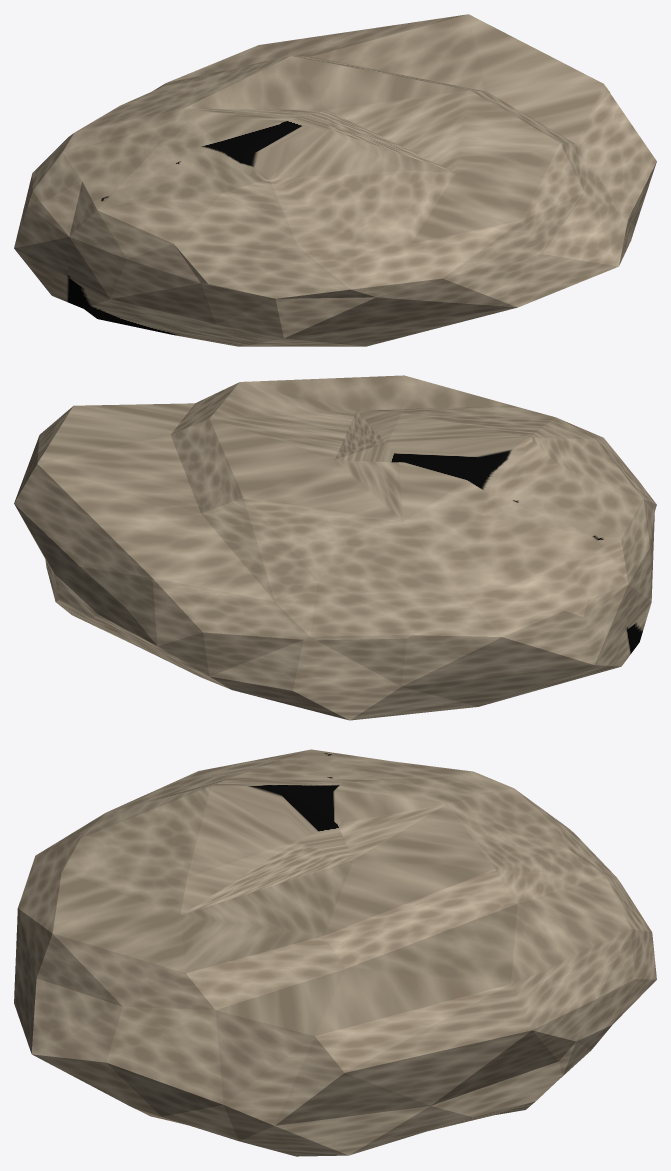
Rendered from 해안바위_01.fbx.
3 renders of one model, top to bottom at view 1: azimuth 30°, elevation 25°; view 2: azimuth 150°, elevation 25°; view 3: azimuth 270°, elevation 25°, orthographic. The views are drawn at different scales.
Parts seen in each view (by area): view 1: 해안바위_01; view 2: 해안바위_01; view 3: 해안바위_01.
Part boxes in pixels (<box>): 해안바위_01: <box>14,14,656,346</box>; 해안바위_01: <box>14,375,656,720</box>; 해안바위_01: <box>14,749,656,1156</box>.
Bounding box in the file's own units: 1385 × 325 × 1187.
1 material, 1 textured.
